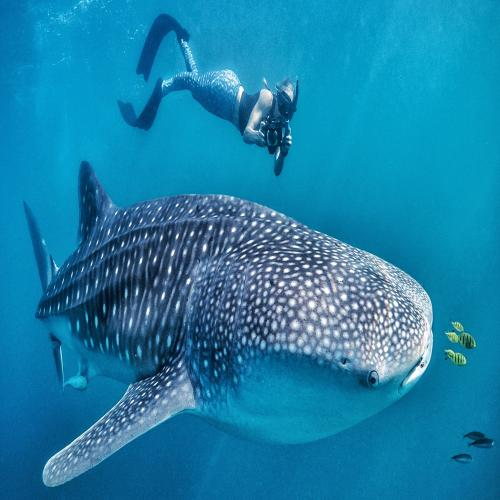shark-endangered: (42, 180, 437, 450)
